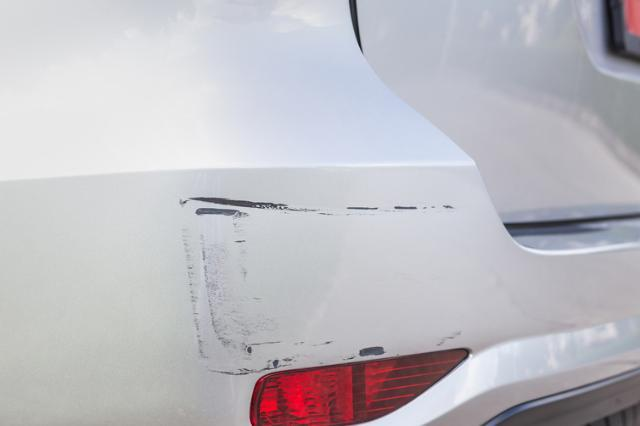Bumper: (158, 178, 481, 393)
